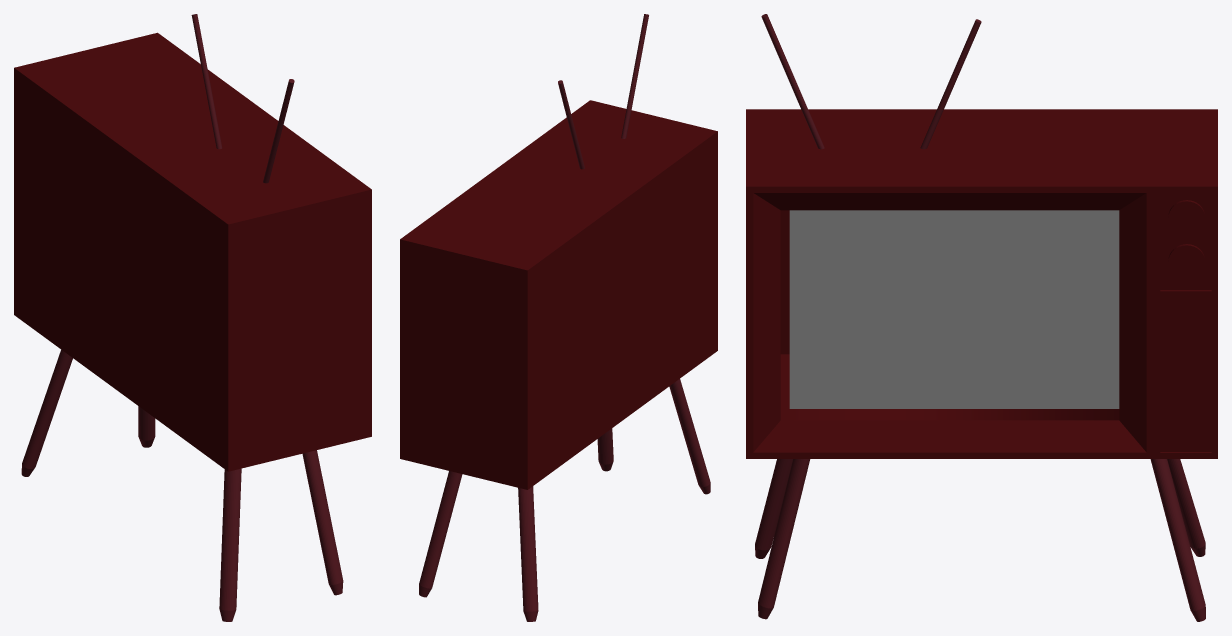
The picture shows the model from 3 angles, left to right: view 1: azimuth 30°, elevation 25°; view 2: azimuth 150°, elevation 25°; view 3: azimuth 270°, elevation 25°; orthographic projection. The views are drawn at different scales.
Visible parts, largest first — view 1: TV (no screen + textured), legs + antenna; view 2: TV (no screen + textured), legs + antenna; view 3: TV (no screen + textured), TV Screen, legs + antenna.
Part boxes in pixels (bbox=[...]): TV (no screen + textured): bbox=[14, 32, 371, 471]; legs + antenna: bbox=[21, 14, 343, 621]; TV (no screen + textured): bbox=[400, 100, 717, 489]; legs + antenna: bbox=[419, 14, 710, 621]; TV (no screen + textured): bbox=[746, 109, 1217, 458]; TV Screen: bbox=[789, 210, 1119, 408]; legs + antenna: bbox=[755, 14, 1205, 621].
Size of the model in its own units: 42.85 by 148 by 110.
